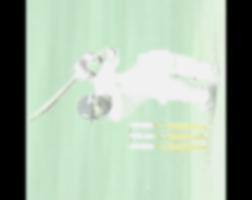batsman: (30, 29, 223, 156)
